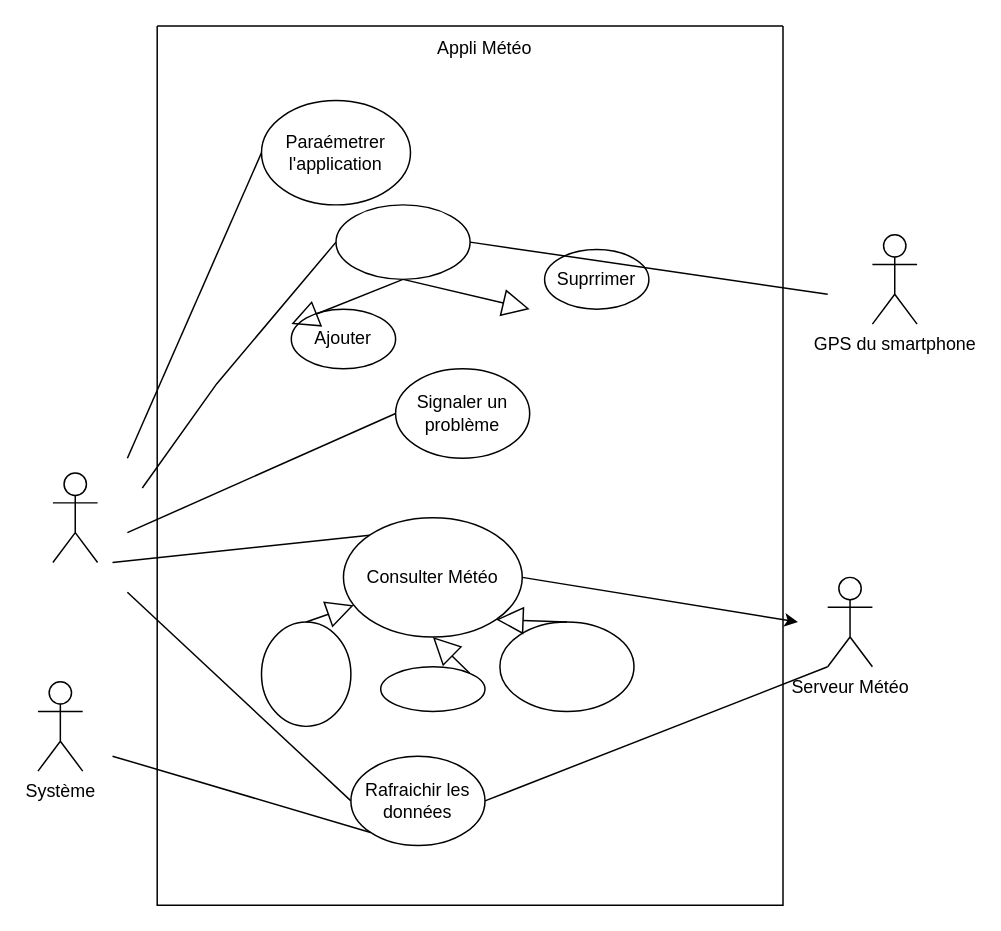
This 1001x931 diagram has some shape labels left out. Each missing label, with the box of its shape:
10 jours: (498, 621, 634, 711)
24h: (379, 665, 485, 711)
Actuelle: (260, 621, 351, 726)
Gérer les villes: (335, 203, 470, 279)
Visiteur: (51, 472, 98, 562)
